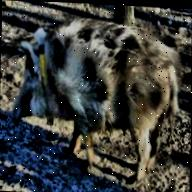boar: (1, 14, 189, 181)
